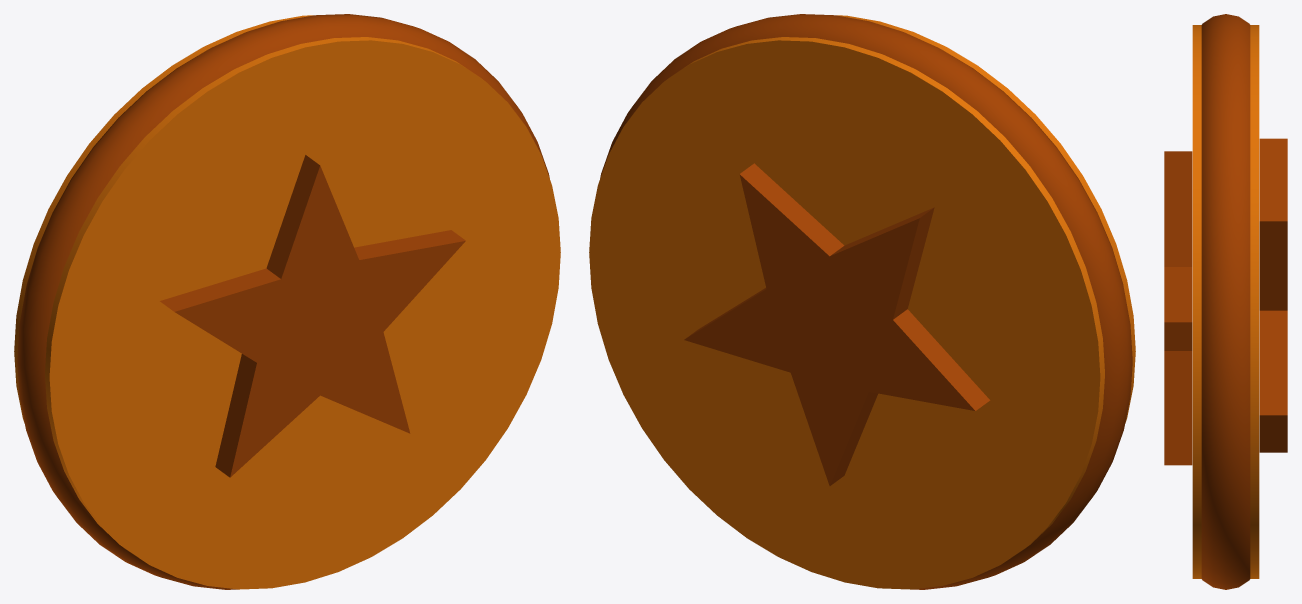
The model's file is coin.obj.
The picture shows the model from 3 angles, left to right: view 1: azimuth 30°, elevation 25°; view 2: azimuth 150°, elevation 25°; view 3: azimuth 270°, elevation 25°; orthographic projection. The views are drawn at different scales.
Parts seen in each view (by area): view 1: coin_body, coin_star_a, coin_rim; view 2: coin_body, coin_star_b, coin_rim; view 3: coin_rim, coin_body, coin_star_a, coin_star_b.
Part boxes in pixels (x1,y1,x2,y2): coin_body: [14, 15, 560, 589]; coin_star_a: [160, 155, 465, 477]; coin_rim: [17, 14, 549, 589]; coin_body: [589, 15, 1135, 589]; coin_star_b: [684, 163, 990, 485]; coin_rim: [600, 14, 1132, 589]; coin_rim: [1201, 14, 1250, 589]; coin_body: [1192, 25, 1259, 578]; coin_star_a: [1164, 151, 1192, 465]; coin_star_b: [1259, 138, 1287, 452].
Size of the model in its own units: 1.04 by 1.04 by 0.222.
